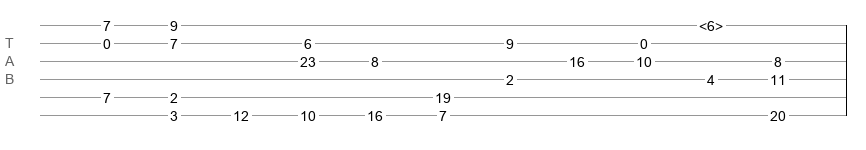0: (103, 36, 111, 46), (640, 36, 648, 46)
10: (300, 108, 316, 118), (636, 54, 652, 64)
11: (770, 72, 786, 82)
12: (233, 108, 249, 118)
16: (367, 108, 383, 118), (569, 54, 585, 64)
19: (435, 90, 451, 100)
2: (170, 90, 178, 100), (506, 72, 514, 82)
20: (770, 108, 786, 118)
23: (300, 54, 316, 64)
3: (170, 108, 178, 118)
4: (707, 72, 715, 82)
6: (304, 36, 312, 46)
7: (103, 90, 111, 100), (103, 18, 111, 28), (170, 36, 178, 46), (439, 108, 447, 118)
8: (371, 54, 379, 64), (774, 54, 782, 64)
9: (170, 18, 178, 28), (506, 36, 514, 46)
harmonic: (699, 18, 723, 28)
